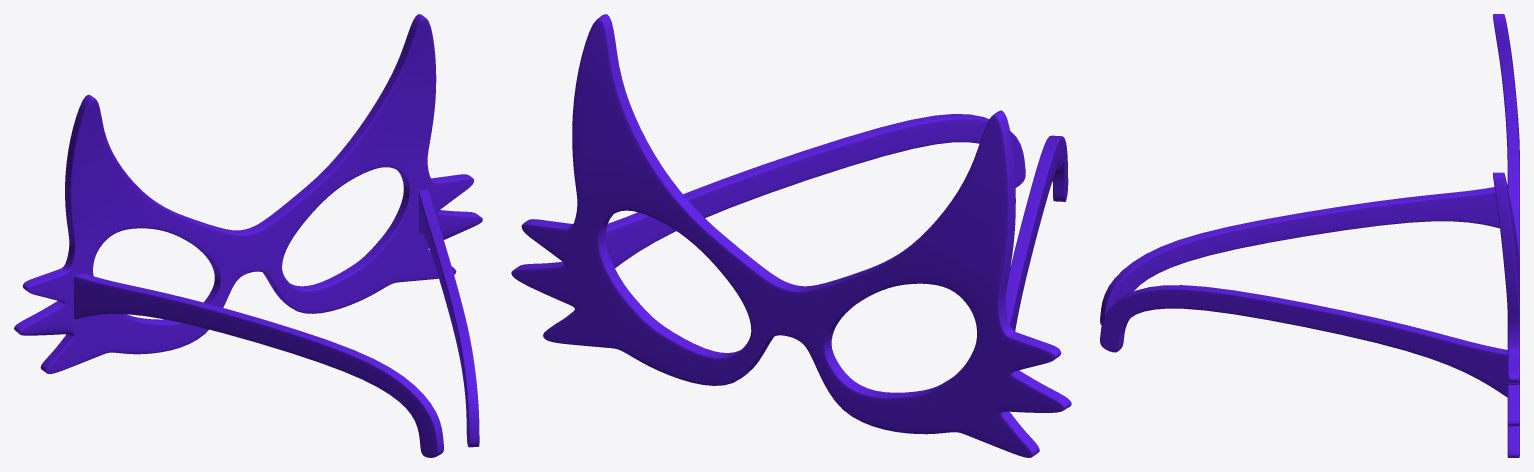
File: purple_cat.fbx
3 views of the same model, side by side, from view 1: azimuth 30°, elevation 25°; view 2: azimuth 150°, elevation 25°; view 3: azimuth 270°, elevation 25° (orthographic). The views are drawn at different scales.
Visible parts, largest first — view 1: 17896_Black_Cat_Sunglasses_NEW_v2; view 2: 17896_Black_Cat_Sunglasses_NEW_v2; view 3: 17896_Black_Cat_Sunglasses_NEW_v2.
Part boxes in pixels (x1=…): 17896_Black_Cat_Sunglasses_NEW_v2: x1=14, y1=14, x2=482, y2=457; 17896_Black_Cat_Sunglasses_NEW_v2: x1=511, y1=14, x2=1071, y2=457; 17896_Black_Cat_Sunglasses_NEW_v2: x1=1100, y1=14, x2=1519, y2=457.
Bounding box in the file's own units: 18.17 × 10.42 × 14.5.
